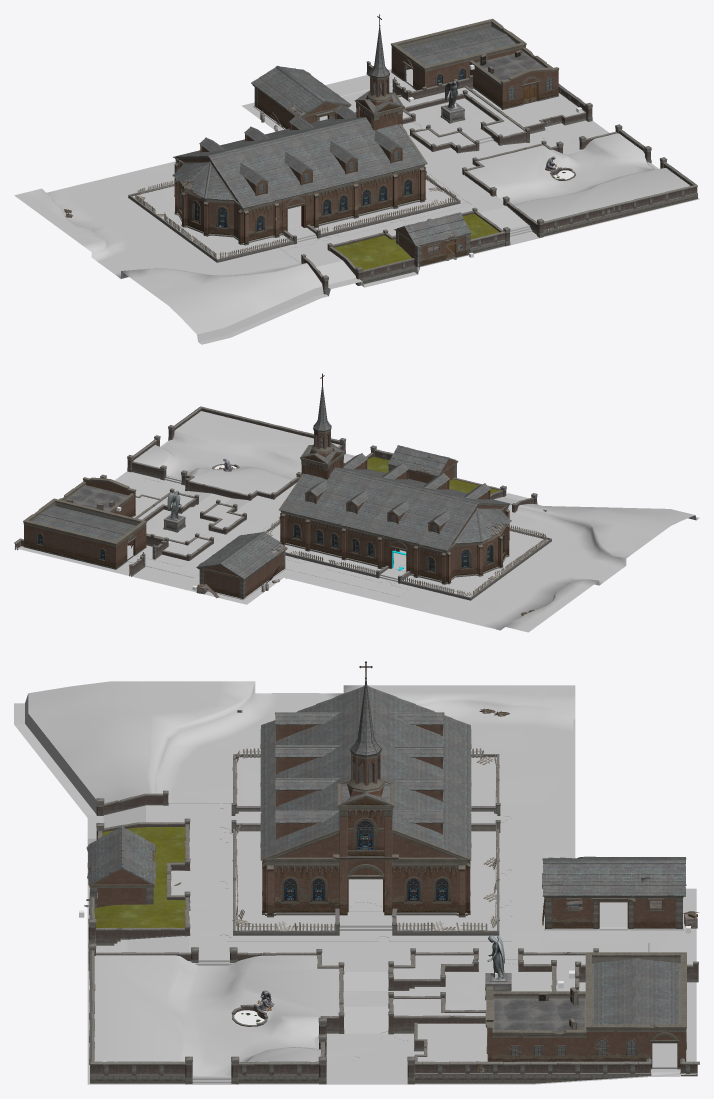
Rendered from church.fbx.
3 renders of one model, top to bottom at view 1: azimuth 30°, elevation 25°; view 2: azimuth 150°, elevation 25°; view 3: azimuth 270°, elevation 25°, orthographic. The views are drawn at different scales.
Visible parts, largest first — view 1: Bg_Church_STR_Base, Church_STR_House_01_Roof, Church_STR_House_01, Bg_Church_STR_Wall_03_Re_1, Church_STR_House_05_02_Roof, Church_STR_House_05_01, Church_STR_House_02_Roof, Bg_Church_STR_Wall_05_Re_1, Church_STR_Wall_04, Church_STR_Wall_04_Grass, Church_STR_House_01_Garden_Wall_01, Church_STR_House_03 (+6 smaller); view 2: Bg_Church_STR_Base, Church_STR_House_01_Roof, Church_STR_House_01, Church_STR_House_05_02_Roof, Bg_Church_STR_Wall_03_Re_1, Church_STR_House_05_02, Church_STR_House_02_Roof, Church_STR_House_05_01, Bg_Church_STR_Wall_05_Re_1, Church_STR_House_02, Church_STR_House_01_Garden_Wall_01, Church_STR_House_03_Roof (+7 smaller); view 3: Bg_Church_STR_Base, Church_STR_House_01_Roof, Church_STR_House_05_02_Roof, Church_STR_House_01, Bg_Church_STR_Wall_03_Re_1, Church_STR_House_05_01, Church_STR_House_02_Roof, Church_STR_Wall_01, Bg_Church_STR_Wall_05_Re_1, Church_STR_Wall_04_Grass, Church_STR_Wall_04, Church_STR_House_01_Garden_Wall_01 (+6 smaller).
Part boxes in pixels (x1,y1,x2,y2): Bg_Church_STR_Base: (14,69,699,344); Church_STR_House_01_Roof: (172,14,427,210); Church_STR_House_01: (174,162,426,245); Bg_Church_STR_Wall_03_Re_1: (462,124,697,237); Church_STR_House_05_02_Roof: (391,18,526,71); Church_STR_House_05_01: (469,47,559,109); Church_STR_House_02_Roof: (251,65,351,118); Bg_Church_STR_Wall_05_Re_1: (397,86,585,153); Church_STR_Wall_04: (301,207,510,294); Church_STR_Wall_04_Grass: (334,213,498,270); Church_STR_House_01_Garden_Wall_01: (128,170,460,262); Church_STR_House_03: (395,227,470,267); Bg_Church_STR_Base: (14,411,699,632); Church_STR_House_01_Roof: (279,373,511,552); Church_STR_House_01: (280,508,509,584); Church_STR_House_05_02_Roof: (23,498,147,546); Bg_Church_STR_Wall_03_Re_1: (127,406,346,500); Church_STR_House_05_02: (23,524,146,569); Church_STR_House_02_Roof: (196,531,287,580); Church_STR_House_05_01: (59,477,136,517); Bg_Church_STR_Wall_05_Re_1: (135,488,246,560); Church_STR_House_02: (199,551,285,598); Church_STR_House_01_Garden_Wall_01: (265,516,551,600); Church_STR_House_03_Roof: (388,445,458,475); Bg_Church_STR_Base: (14,681,696,1084); Church_STR_House_01_Roof: (260,661,471,879); Church_STR_House_05_02_Roof: (585,952,686,1043); Church_STR_House_01: (262,860,470,917); Bg_Church_STR_Wall_03_Re_1: (88,943,344,1084); Church_STR_House_05_01: (485,986,586,1061); Church_STR_House_02_Roof: (542,856,686,902); Church_STR_Wall_01: (407,1056,699,1084); Bg_Church_STR_Wall_05_Re_1: (388,948,598,1061); Church_STR_Wall_04_Grass: (94,827,185,928); Church_STR_Wall_04: (88,790,190,945); Church_STR_House_01_Garden_Wall_01: (231,754,500,935).
Size of the model in its own units: 8200 by 2681 by 6231.
